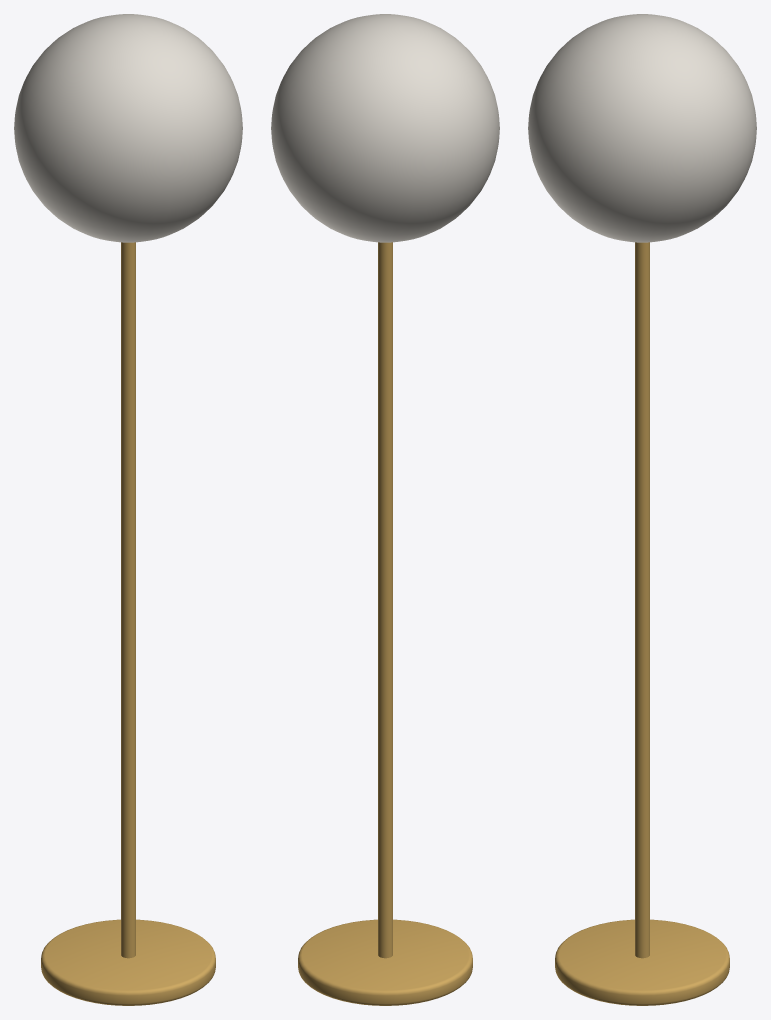
Rendered from lamp-globe.glb.
3 renders of one model, left to right at view 1: azimuth 30°, elevation 25°; view 2: azimuth 150°, elevation 25°; view 3: azimuth 270°, elevation 25°, orthographic.
Parts seen in each view (by area): view 1: globe, base, stem; view 2: globe, base, stem; view 3: globe, base, stem.
Part boxes in pixels (x1=…): globe: x1=14, y1=14, x2=242, y2=242; base: x1=41, y1=919, x2=215, y2=1005; stem: x1=121, y1=242, x2=135, y2=958; globe: x1=271, y1=14, x2=499, y2=242; base: x1=298, y1=919, x2=472, y2=1005; stem: x1=378, y1=242, x2=392, y2=958; globe: x1=528, y1=14, x2=756, y2=242; base: x1=555, y1=919, x2=729, y2=1005; stem: x1=635, y1=242, x2=649, y2=958.
Bounding box in the file's own units: 0.34 × 1.55 × 0.34.
